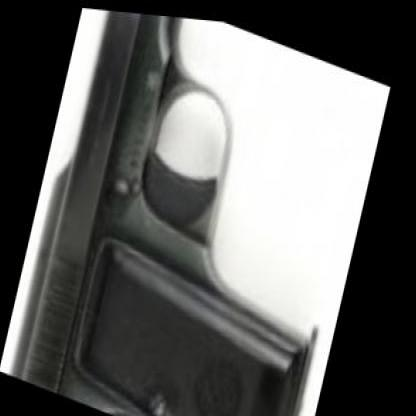pistol: (3, 1, 390, 415)
